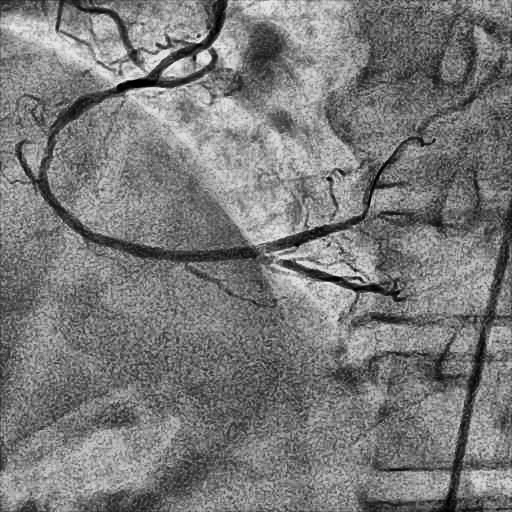pborca: (261, 136, 416, 253)
pda: (256, 252, 393, 295)
rca: (38, 77, 258, 262)
